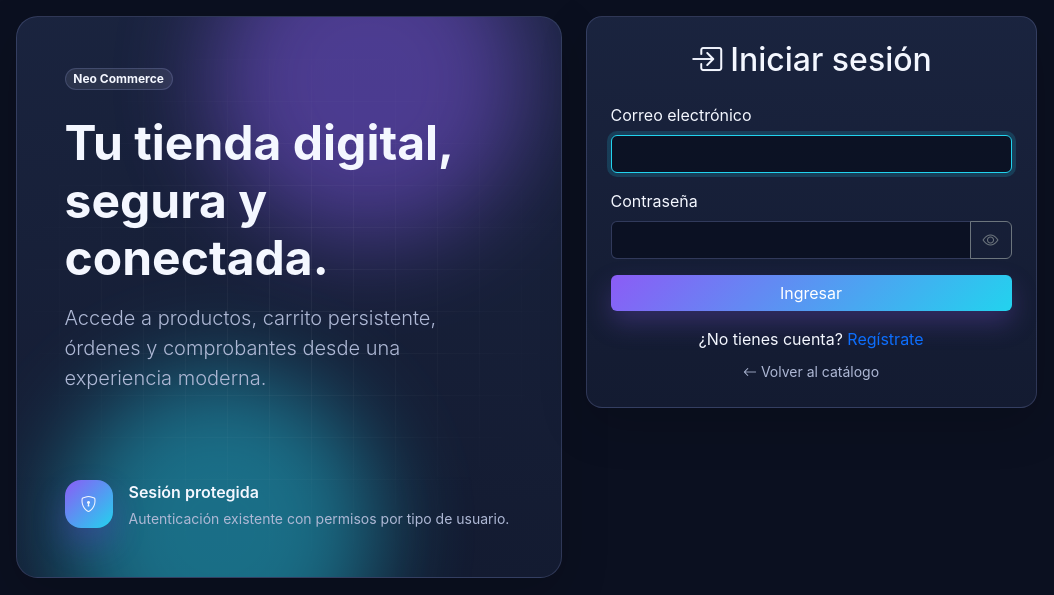
Scenario: LoginPage › login 429 muestra mensaje de límite de intentos
Type "a@b.com" into the field labelled "Correo electrónico" at (811, 154), box [610, 135, 1012, 173]
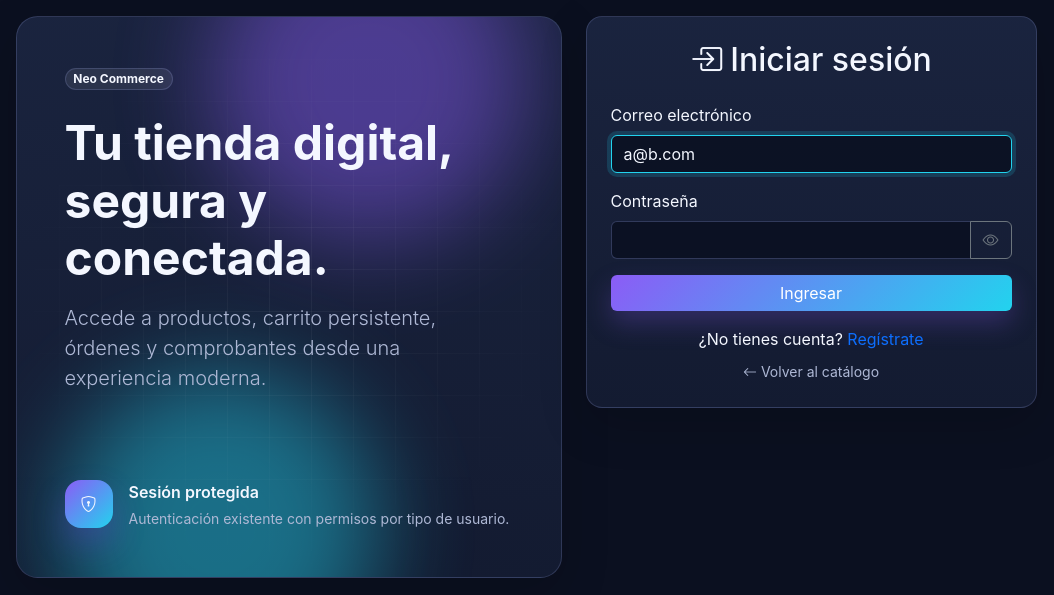
Type "test" into the password field labelled "Contraseña" at (790, 240), box [610, 221, 970, 259]
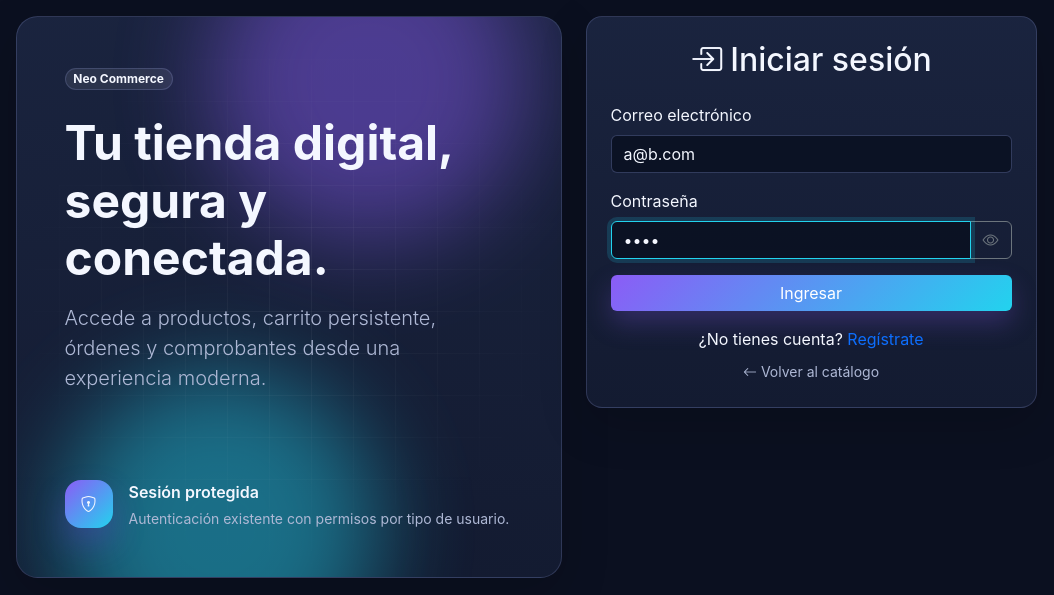
Click the button "Ingresar" at (811, 293), box [610, 275, 1012, 311]
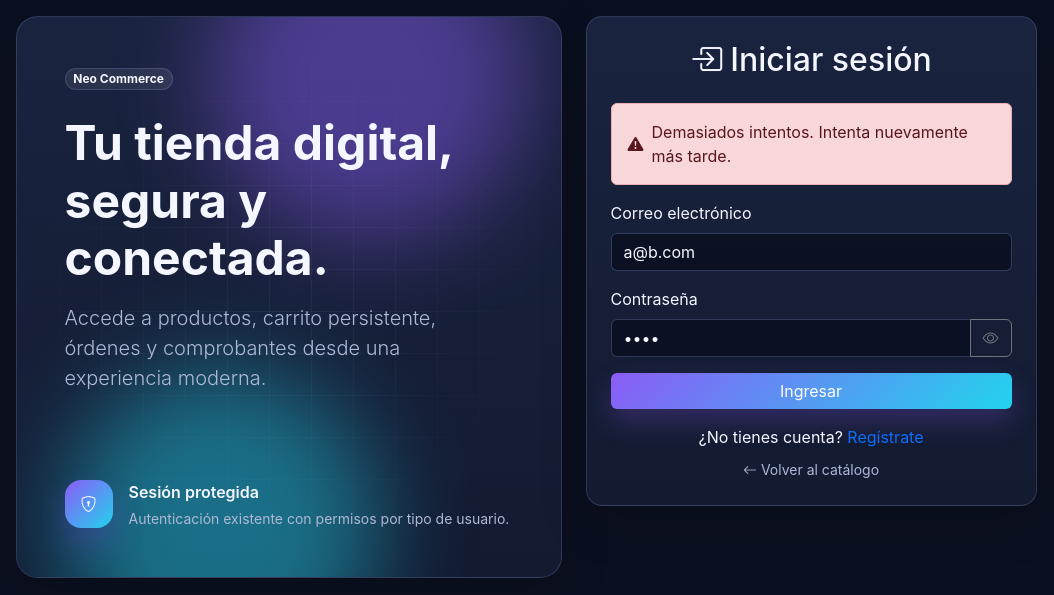
Now the text "Demasiados intentos. Intenta nuevamente más tarde." is shown, box [610, 103, 1012, 185]
